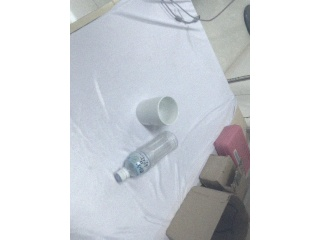bottle: (114, 130, 178, 184)
box: (167, 186, 249, 240)
cup: (136, 96, 178, 126)
